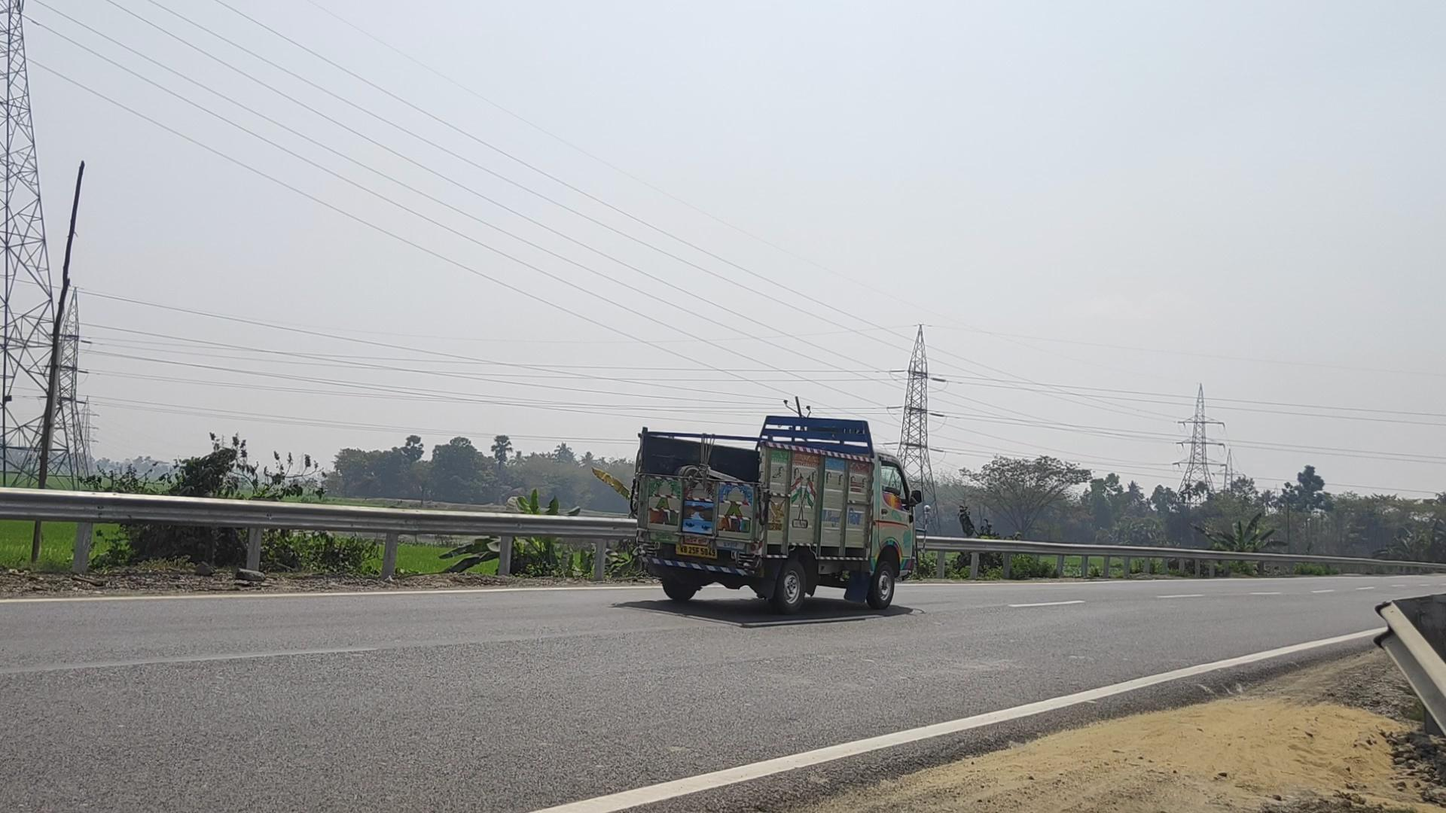van: (633, 416, 930, 614)
